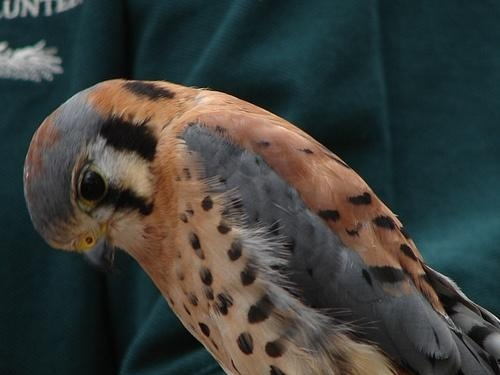bird: (21, 74, 500, 375)
